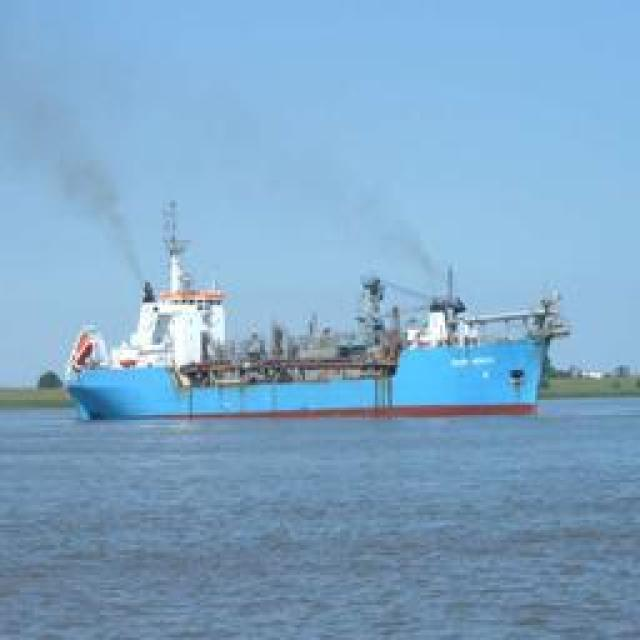CIV_Ship: (55, 254, 558, 424)
